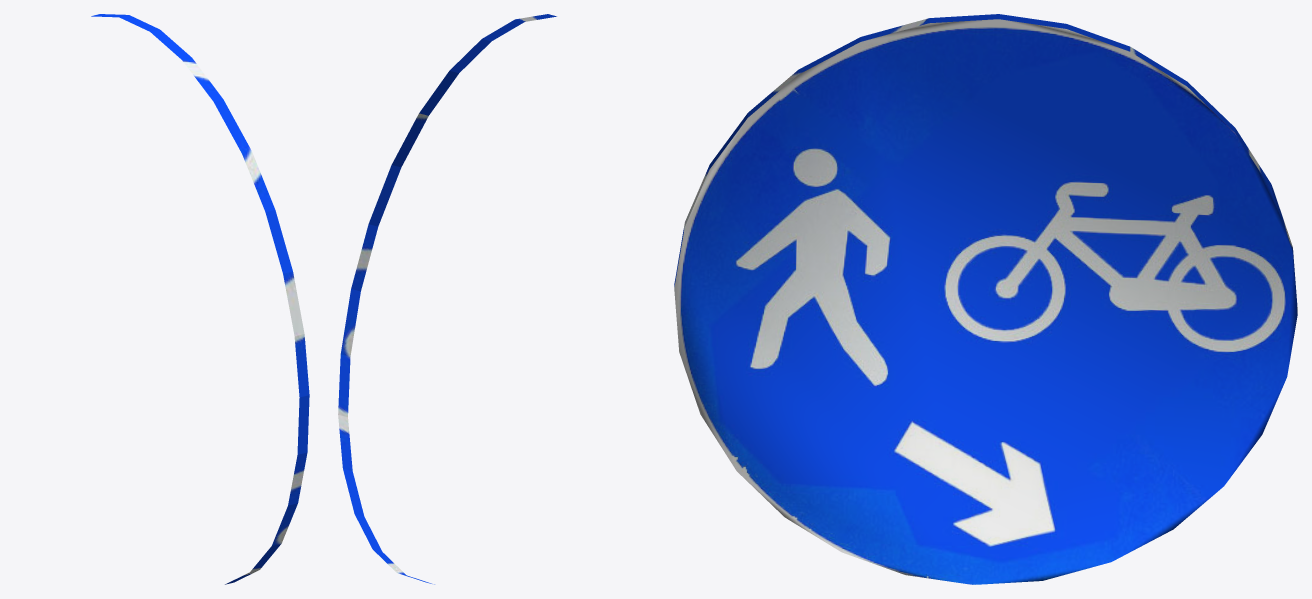
The picture shows the model from 3 angles, left to right: view 1: azimuth 30°, elevation 25°; view 2: azimuth 150°, elevation 25°; view 3: azimuth 270°, elevation 25°; orthographic projection. The views are drawn at different scales.
Parts seen in each view (by area): view 1: model16; view 2: model16; view 3: model16.
Part boxes in pixels (x1=…): model16: x1=91, y1=14, x2=309, y2=584; model16: x1=338, y1=14, x2=556, y2=584; model16: x1=674, y1=14, x2=1297, y2=584.
Size of the model in its own units: 0.0396 by 1.19 by 1.19.
Materials: 2 (2 with a texture image).
